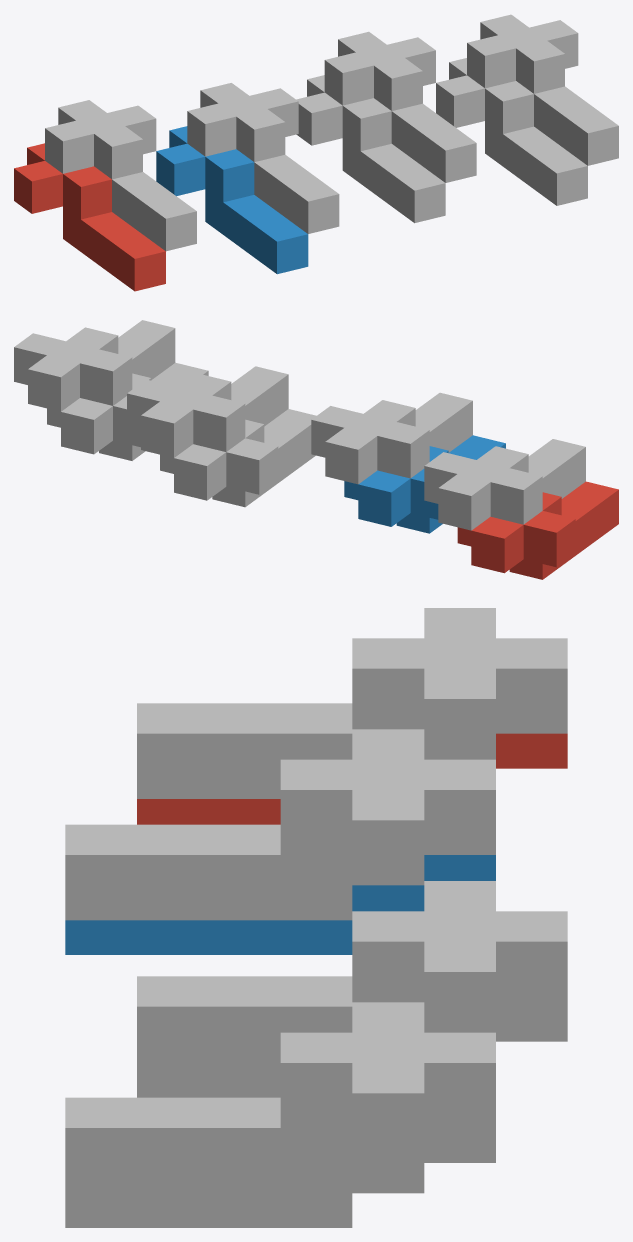
File: tiling.obj
The picture shows the model from 3 angles, top to bottom: view 1: azimuth 30°, elevation 25°; view 2: azimuth 150°, elevation 25°; view 3: azimuth 270°, elevation 25°; orthographic projection. The views are drawn at different scales.
Visible parts, largest first — view 1: copy_1_domain_4, copy_1_domain_7, copy_1_domain_3, copy_1_domain_8, copy_1_domain_2, copy_1_domain_1, copy_1_domain_6, copy_1_domain_5; view 2: copy_1_domain_3, copy_1_domain_7, copy_1_domain_4, copy_1_domain_8, copy_1_domain_1, copy_1_domain_5, copy_1_domain_2, copy_1_domain_6; view 3: copy_1_domain_8, copy_1_domain_4, copy_1_domain_3, copy_1_domain_7, copy_1_domain_6, copy_1_domain_2, copy_1_domain_1, copy_1_domain_5.
Boxes of the visible parts, x1,y1,x2,y2 form: copy_1_domain_4: [187, 83, 339, 233]; copy_1_domain_7: [324, 31, 476, 182]; copy_1_domain_3: [45, 100, 196, 251]; copy_1_domain_8: [467, 14, 618, 165]; copy_1_domain_2: [156, 126, 308, 274]; copy_1_domain_1: [14, 143, 165, 291]; copy_1_domain_6: [436, 58, 587, 205]; copy_1_domain_5: [296, 75, 445, 223]; copy_1_domain_3: [424, 439, 585, 530]; copy_1_domain_7: [127, 366, 288, 457]; copy_1_domain_4: [311, 392, 472, 484]; copy_1_domain_8: [14, 320, 175, 411]; copy_1_domain_1: [457, 481, 618, 579]; copy_1_domain_5: [160, 409, 316, 507]; copy_1_domain_2: [344, 435, 505, 533]; copy_1_domain_6: [47, 362, 208, 460]; copy_1_domain_8: [65, 1002, 495, 1193]; copy_1_domain_4: [65, 729, 495, 920]; copy_1_domain_3: [137, 608, 567, 798]; copy_1_domain_7: [137, 881, 567, 1071]; copy_1_domain_6: [65, 1128, 495, 1227]; copy_1_domain_2: [65, 855, 495, 954]; copy_1_domain_1: [137, 733, 567, 824]; copy_1_domain_5: [137, 1006, 567, 1097].
Bounding box in the file's own units: 17 × 3 × 7.
